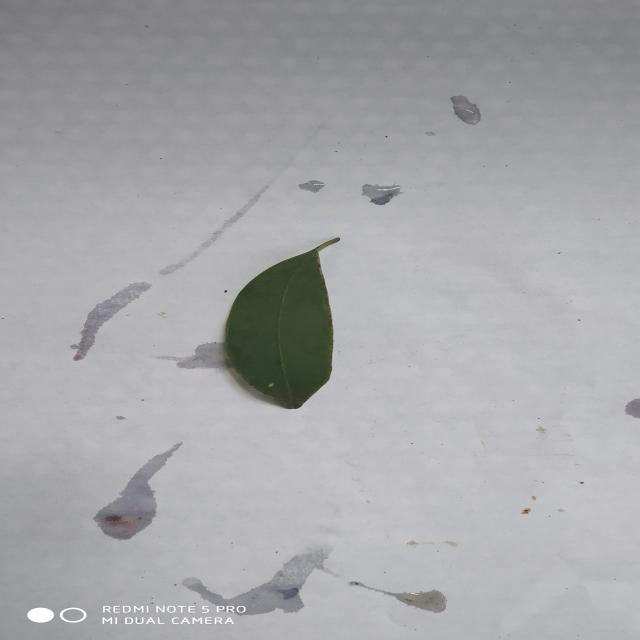sapota: (224, 238, 340, 409)
